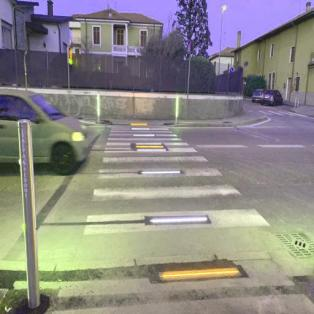Paso de Cebra: (72, 182, 273, 236), (96, 146, 210, 164), (105, 132, 185, 142)
